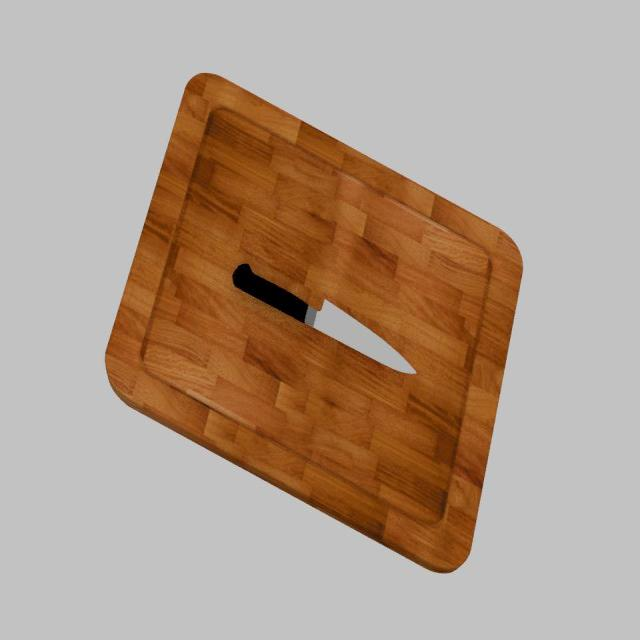knife: (232, 264, 309, 324)
